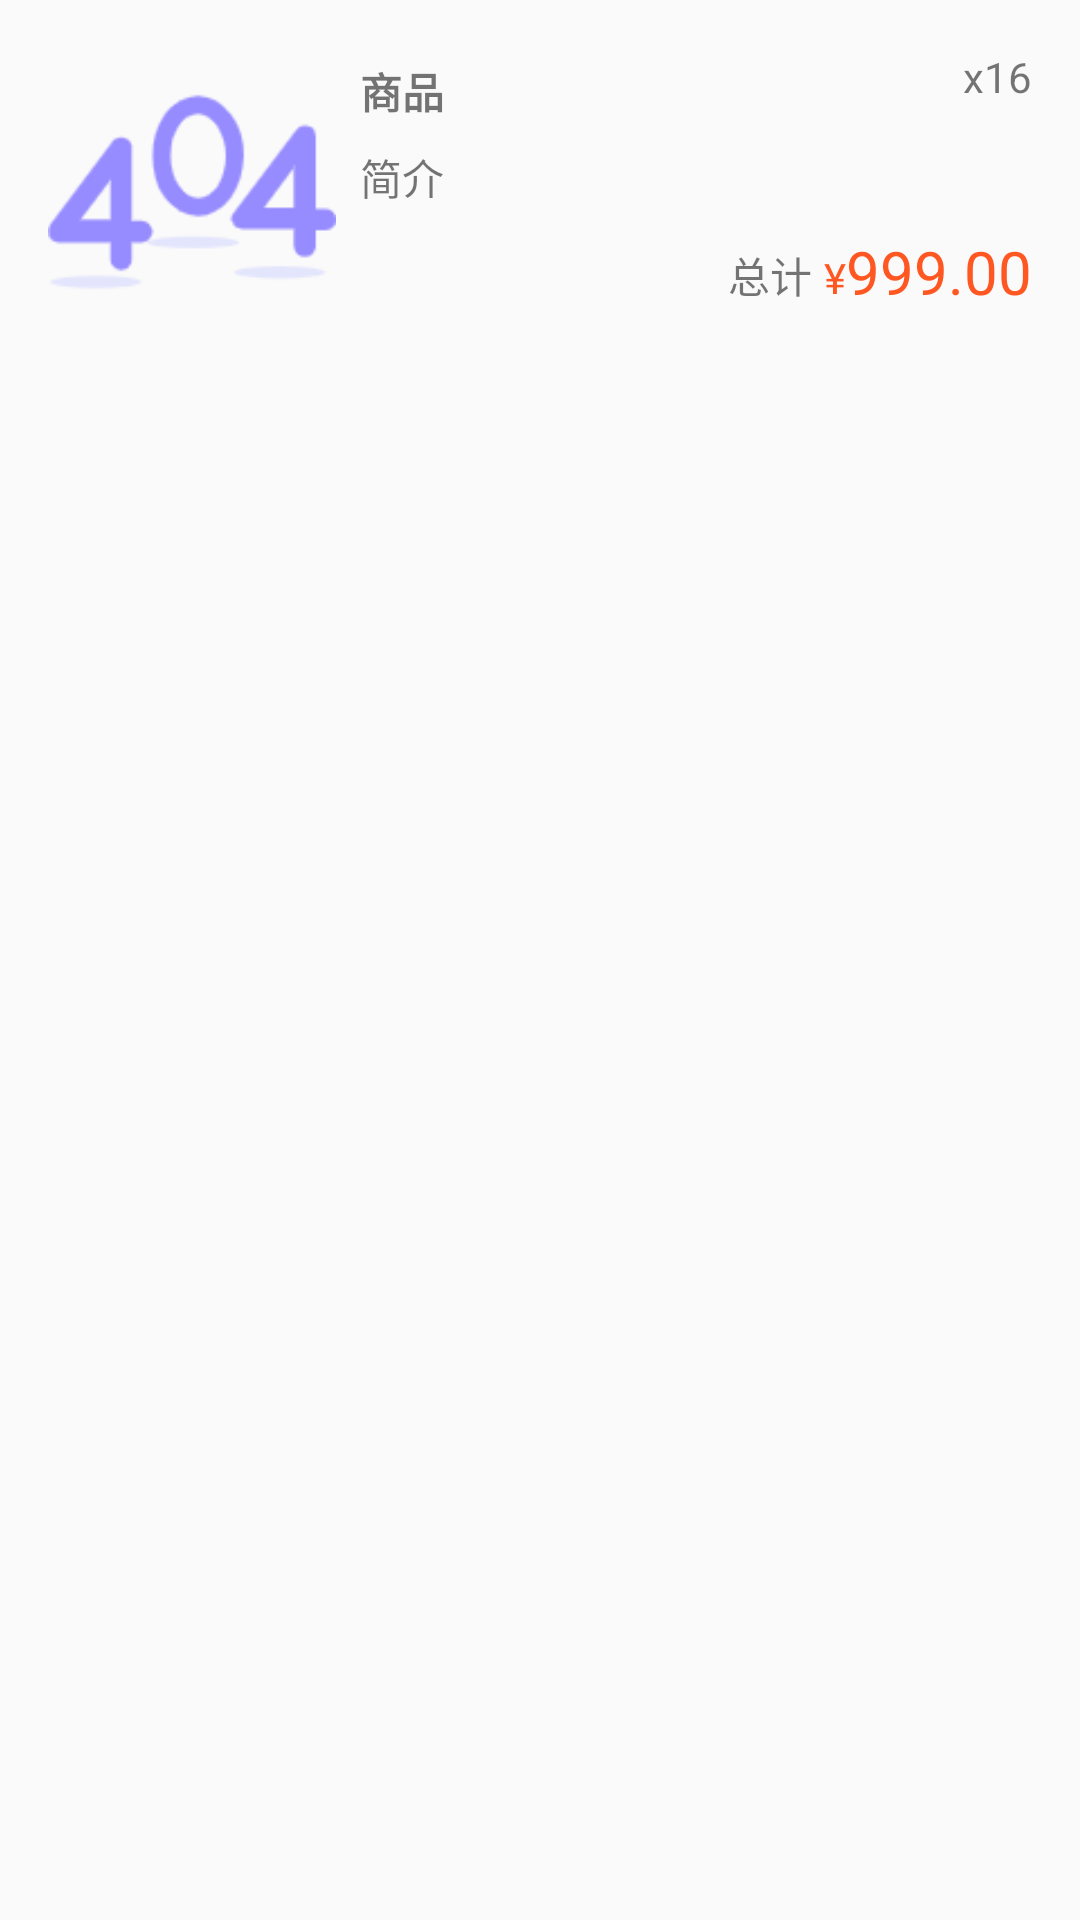

Screen size 1080 x 1920. Icon name, then its center in pixels as (x=x, y=y):
bitmap: (x=192, y=183)
